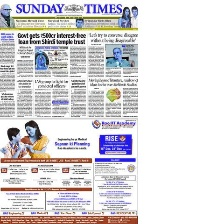news_paper: (0, 0, 138, 223)
